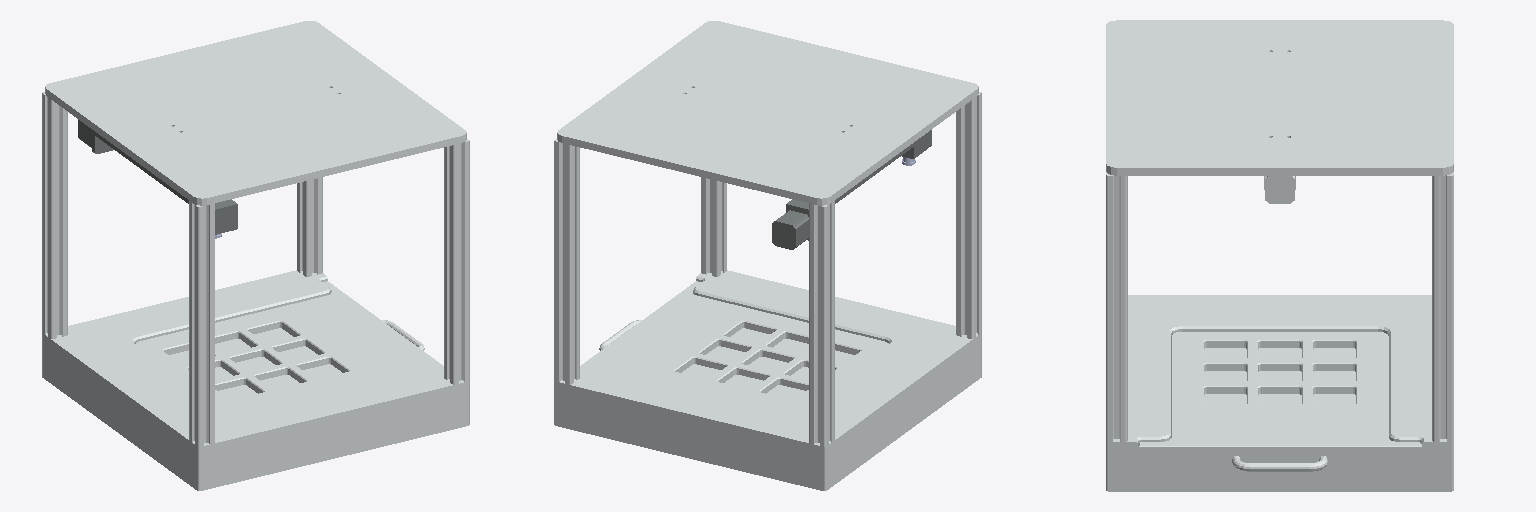
robot.urdf — Insect_Watcher:
<?xml version="1.0" encoding="utf-8"?>
<!-- This URDF was automatically created by SolidWorks to URDF Exporter! Originally created by [author] ([email redacted]) 
     Commit Version: 1.6.0-4-g7f85cfe  Build Version: 1.6.7995.38578
     For more information, please see http://wiki.ros.org/sw_urdf_exporter -->
<robot
  name="Insect_Watcher">
  <link
    name="base_link">
    <inertial>
      <origin
        xyz="-0.00086422 -1.1102E-16 0.02434"
        rpy="0 0 0" />
      <mass
        value="15.038" />
      <inertia
        ixx="0.12715"
        ixy="-8.7269E-18"
        ixz="0.0020477"
        iyy="0.12272"
        iyz="1.2118E-18"
        izz="0.24325" />
    </inertial>
    <visual>
      <origin
        xyz="0 0 0"
        rpy="0 0 0" />
      <geometry>
        <mesh
          filename="package://Insect_Watcher/meshes/base_link.STL" />
      </geometry>
      <material
        name="">
        <color
          rgba="0.89804 0.91765 0.92941 1" />
      </material>
    </visual>
    <collision>
      <origin
        xyz="0 0 0"
        rpy="0 0 0" />
      <geometry>
        <mesh
          filename="package://Insect_Watcher/meshes/base_link.STL" />
      </geometry>
    </collision>
  </link>
  <link
    name="xlider_link">
    <inertial>
      <origin
        xyz="0.016 0.024695 -0.0075261"
        rpy="0 0 0" />
      <mass
        value="1.0009" />
      <inertia
        ixx="0.0047234"
        ixy="-5.9699E-18"
        ixz="3.7785E-20"
        iyy="0.00010039"
        iyz="2.4328E-05"
        izz="0.0047657" />
    </inertial>
    <visual>
      <origin
        xyz="0 0 0"
        rpy="0 0 0" />
      <geometry>
        <mesh
          filename="package://Insect_Watcher/meshes/xlider_link.STL" />
      </geometry>
      <material
        name="">
        <color
          rgba="0.52941 0.54902 0.54902 1" />
      </material>
    </visual>
    <collision>
      <origin
        xyz="0 0 0"
        rpy="0 0 0" />
      <geometry>
        <mesh
          filename="package://Insect_Watcher/meshes/xlider_link.STL" />
      </geometry>
    </collision>
  </link>
  <joint
    name="xslider_joint"
    type="prismatic">
    <origin
      xyz="-0.123 -0.015 0.2549"
      rpy="0 0 0" />
    <parent
      link="base_link" />
    <child
      link="xlider_link" />
    <axis
      xyz="1 0 0" />
    <limit
      lower="0"
      upper="0.203"
      effort="30"
      velocity="0.5" />
  </joint>
  <link
    name="yslider_link">
    <inertial>
      <origin
        xyz="0.015 0.016 0.0070462"
        rpy="0 0 0" />
      <mass
        value="0.095569" />
      <inertia
        ixx="9.7906E-06"
        ixy="-3.0698E-21"
        ixz="-2.2036E-22"
        iyy="9.2937E-06"
        iyz="-3.7386E-22"
        izz="1.5746E-05" />
    </inertial>
    <visual>
      <origin
        xyz="0 0 0"
        rpy="0 0 0" />
      <geometry>
        <mesh
          filename="package://Insect_Watcher/meshes/yslider_link.STL" />
      </geometry>
      <material
        name="">
        <color
          rgba="0.52941 0.54902 0.54902 1" />
      </material>
    </visual>
    <collision>
      <origin
        xyz="0 0 0"
        rpy="0 0 0" />
      <geometry>
        <mesh
          filename="package://Insect_Watcher/meshes/yslider_link.STL" />
      </geometry>
    </collision>
  </link>
  <joint
    name="yslider_joint"
    type="prismatic">
    <origin
      xyz="0.001 -0.1025 -0.027"
      rpy="0 0 0" />
    <parent
      link="xlider_link" />
    <child
      link="yslider_link" />
    <axis
      xyz="0 1 0" />
    <limit
      lower="0"
      upper="0.203"
      effort="30"
      velocity="0.5" />
  </joint>
  <link
    name="camera_link">
    <inertial>
      <origin
        xyz="-0.0082083 5.5511E-17 0"
        rpy="0 0 0" />
      <mass
        value="0.0023009" />
      <inertia
        ixx="9.2019E-08"
        ixy="4.8185E-24"
        ixz="-2.1244E-23"
        iyy="9.5904E-08"
        iyz="-1.8189E-24"
        izz="9.3405E-08" />
    </inertial>
    <visual>
      <origin
        xyz="0 0 0"
        rpy="0 0 0" />
      <geometry>
        <mesh
          filename="package://Insect_Watcher/meshes/camera_link.STL" />
      </geometry>
      <material
        name="">
        <color
          rgba="0.79216 0.81961 0.93333 1" />
      </material>
    </visual>
    <collision>
      <origin
        xyz="0 0 0"
        rpy="0 0 0" />
      <geometry>
        <mesh
          filename="package://Insect_Watcher/meshes/camera_link.STL" />
      </geometry>
    </collision>
  </link>
  <joint
    name="camera_joint"
    type="fixed">
    <origin
      xyz="0.015 0.016 -0.014"
      rpy="0 1.5708 0" />
    <parent
      link="yslider_link" />
    <child
      link="camera_link" />
    <axis
      xyz="0 0 0" />
  </joint>
</robot>

--- Render facts (derived) ---
3 views of the same robot in one strip: view 1: azimuth 30°, elevation 25°; view 2: azimuth 150°, elevation 25°; view 3: azimuth 270°, elevation 25° (orthographic).
Robot: Insect_Watcher — 4 links, 3 joints (2 prismatic, 1 fixed); root link base_link; default pose: all joints at 0.
Links seen in each view (by area): view 1: base_link, xlider_link; view 2: base_link, xlider_link; view 3: base_link.
Boxes of the visible links, x1,y1,x2,y2 form: base_link: (42, 21, 469, 490); xlider_link: (78, 119, 237, 234); base_link: (554, 21, 981, 490); xlider_link: (772, 130, 931, 249); base_link: (1106, 20, 1453, 491).
Bounding box of the posed robot: 0.34 × 0.32 × 0.328 m (x, y, z).
4 mesh visuals loaded from 4 distinct referenced files (4 binary STL).
